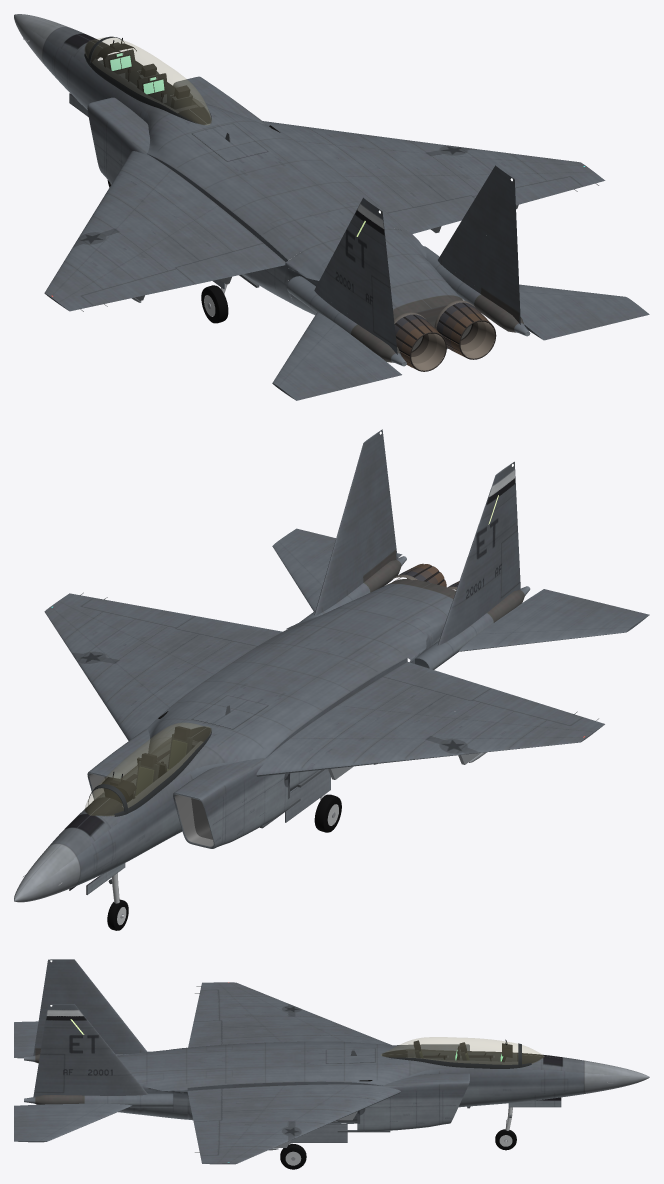
3 views of the same model, one above another, from view 1: azimuth 30°, elevation 25°; view 2: azimuth 150°, elevation 25°; view 3: azimuth 270°, elevation 25° (orthographic). The views are drawn at different scales.
Visible parts, largest first — view 1: fuselage, stab_L, nozzle, canopy, stab_R, cockpit, flap_L, flap_R, ail_L, sb_dorsal, rudder_R, rudder_L (+2 smaller); view 2: fuselage, stab_L, canopy, cockpit, stab_R, flap_L, flap_R, ail_L, ail_R, sb_dorsal, rudder_R, door_main_L (+4 smaller); view 3: fuselage, canopy, stab_R, cockpit, rudder_R, flap_R, flap_L, ail_R, stab_L, door_main_R, ail_L, sb_dorsal (+3 smaller).
Part boxes in pixels (x1=…): fuselage: x1=14, y1=14, x2=605, y2=366; stab_L: x1=272, y1=312, x2=401, y2=400; nozzle: x1=394, y1=300, x2=496, y2=371; canopy: x1=84, y1=37, x2=211, y2=124; stab_R: x1=519, y1=284, x2=649, y2=340; cockpit: x1=92, y1=38, x2=204, y2=113; flap_L: x1=176, y1=243, x2=285, y2=284; flap_R: x1=387, y1=195, x2=474, y2=233; ail_L: x1=81, y1=268, x2=195, y2=305; sb_dorsal: x1=192, y1=123, x2=267, y2=161; rudder_R: x1=497, y1=244, x2=520, y2=315; rudder_L: x1=371, y1=276, x2=396, y2=346; fuselage: x1=14, y1=429, x2=604, y2=902; stab_L: x1=458, y1=589, x2=649, y2=651; canopy: x1=84, y1=723, x2=211, y2=815; cockpit: x1=92, y1=726, x2=203, y2=808; stab_R: x1=272, y1=528, x2=402, y2=611; flap_L: x1=383, y1=662, x2=490, y2=700; flap_R: x1=176, y1=616, x2=282, y2=646; ail_L: x1=473, y1=688, x2=582, y2=725; ail_R: x1=81, y1=598, x2=194, y2=627; sb_dorsal: x1=192, y1=695, x2=268, y2=729; rudder_R: x1=374, y1=499, x2=396, y2=567; door_main_L: x1=285, y1=769, x2=330, y2=822; fuselage: x1=24, y1=959, x2=649, y2=1164; canopy: x1=381, y1=1037, x2=544, y2=1064; stab_R: x1=14, y1=1103, x2=131, y2=1142; cockpit: x1=406, y1=1039, x2=518, y2=1064; rudder_R: x1=34, y1=1054, x2=64, y2=1092; flap_R: x1=187, y1=1088, x2=221, y2=1121; flap_L: x1=188, y1=1020, x2=221, y2=1047; ail_R: x1=193, y1=1120, x2=219, y2=1155; stab_L: x1=14, y1=1021, x2=38, y2=1058; door_main_R: x1=290, y1=1123, x2=347, y2=1142; ail_L: x1=193, y1=990, x2=219, y2=1021; sb_dorsal: x1=326, y1=1048, x2=375, y2=1063.
Size of the model in its own units: 13.04 by 5.63 by 19.35.
10 materials, 1 textured.
